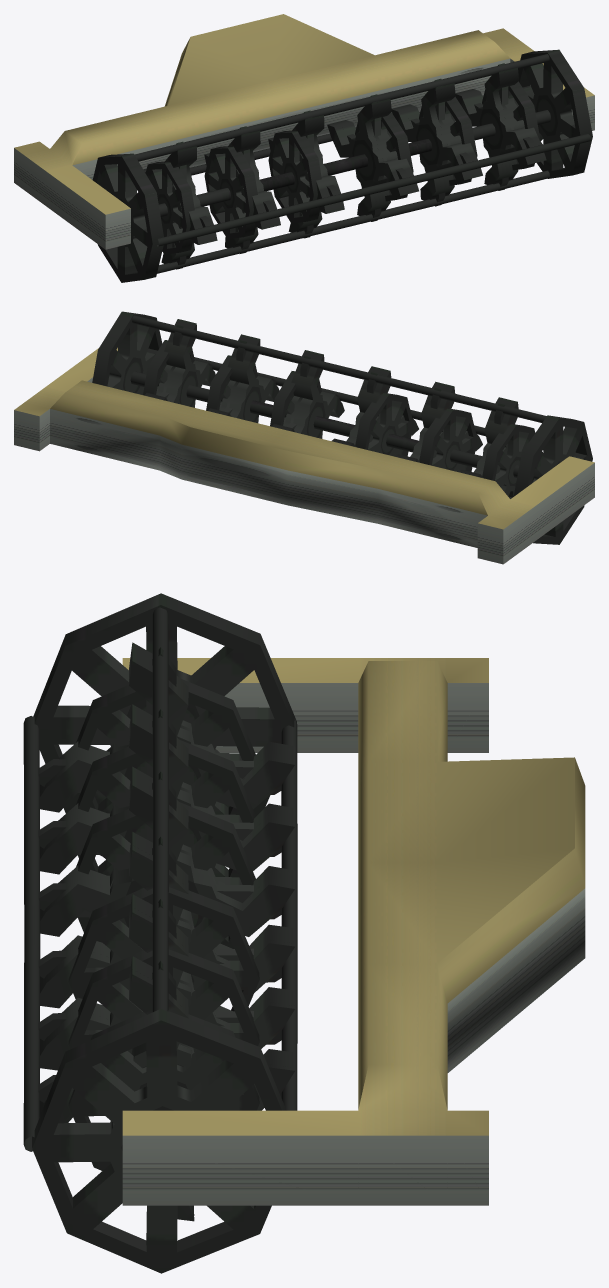
File: Attachment.fbx
The picture shows the model from 3 angles, top to bottom: view 1: azimuth 30°, elevation 25°; view 2: azimuth 150°, elevation 25°; view 3: azimuth 270°, elevation 25°; orthographic projection. The views are drawn at different scales.
Visible parts, largest first — view 1: Attachment, Harvester, Cultivator, Planter; view 2: Attachment, Harvester, Planter, Cultivator; view 3: Attachment, Harvester, Planter, Cultivator.
Boxes of the visible parts, x1,y1,x2,y2 form: Attachment: [14, 14, 594, 249]; Harvester: [93, 49, 592, 282]; Cultivator: [143, 67, 546, 263]; Planter: [144, 70, 540, 256]; Attachment: [14, 347, 594, 564]; Harvester: [92, 311, 592, 544]; Planter: [143, 320, 535, 497]; Cultivator: [144, 319, 543, 478]; Attachment: [122, 658, 585, 1205]; Harvester: [23, 593, 297, 1273]; Planter: [39, 647, 295, 1215]; Cultivator: [39, 642, 295, 1221].
Size of the model in its own units: 5.19 by 1.3 by 2.58.
1 material, 1 textured.
